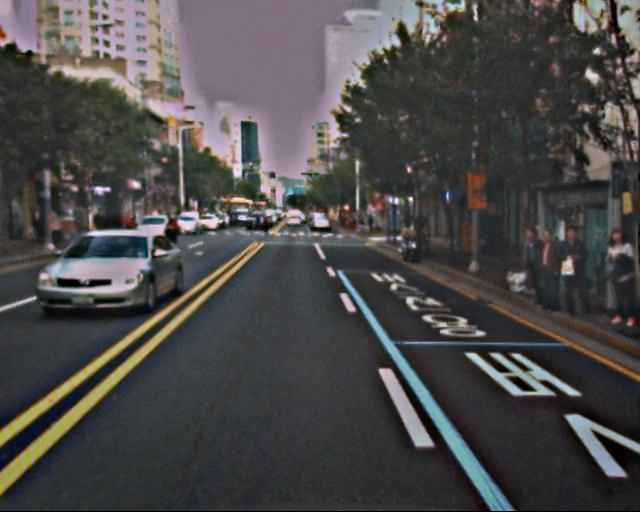person: (517, 225, 638, 335)
